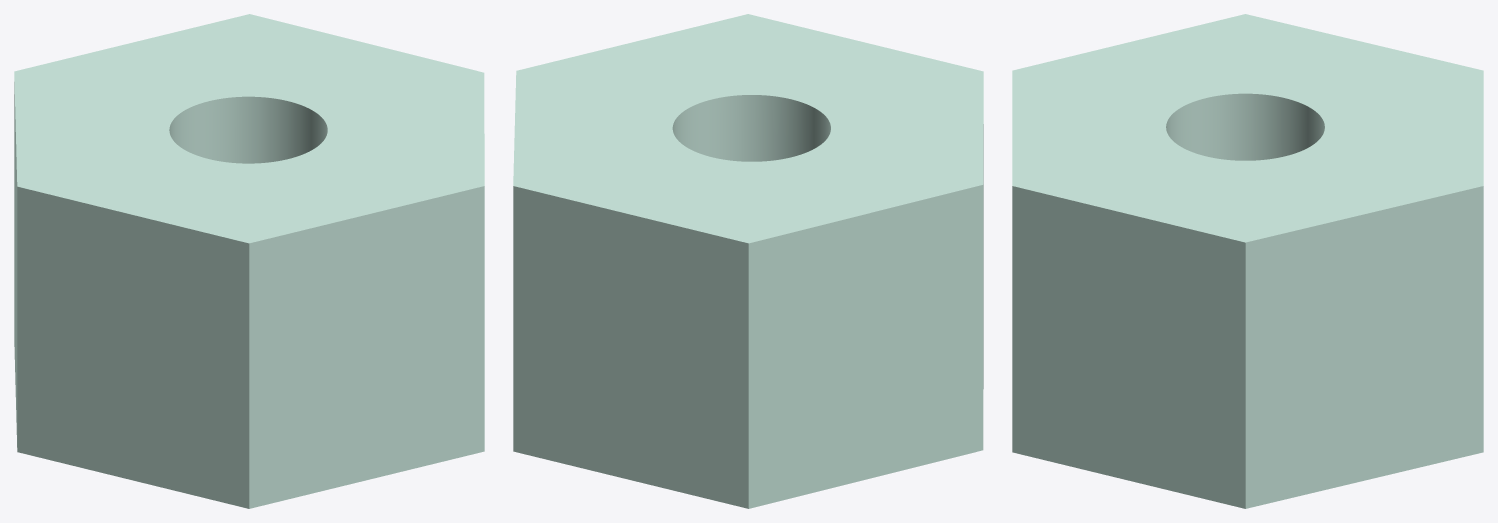
3 views of the same model, side by side, from view 1: azimuth 30°, elevation 25°; view 2: azimuth 150°, elevation 25°; view 3: azimuth 270°, elevation 25° (orthographic).
Parts seen in each view (by area): view 1: Renderer Node; view 2: Renderer Node; view 3: Renderer Node.
Boxes of the visible parts, x1,y1,x2,y2 form: Renderer Node: (14,14,484,508); Renderer Node: (513,14,983,508); Renderer Node: (1012,14,1483,508).
Size of the model in its own units: 0.7619 by 0.4141 by 0.6641.
